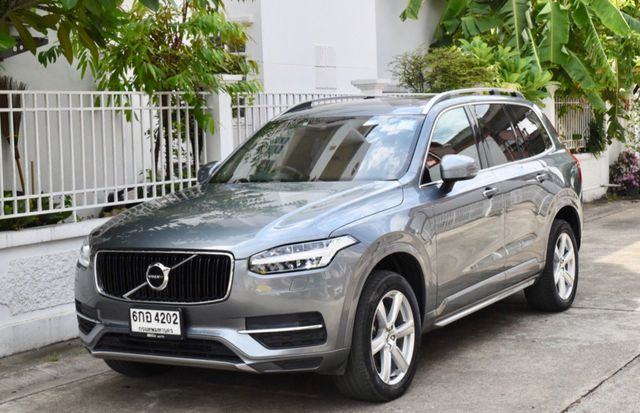pickup: (71, 88, 585, 402)
